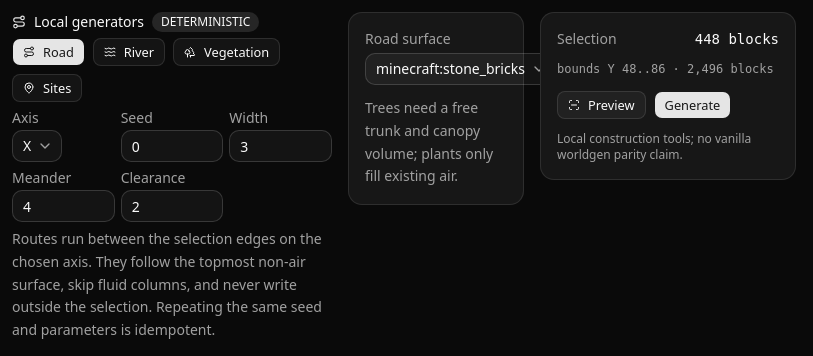
Scenario: generators panel › previews a deterministic road without writing
Click the button with aria-label "Preview generator" at (601, 105), box left=557, top=91, right=646, bottom=119
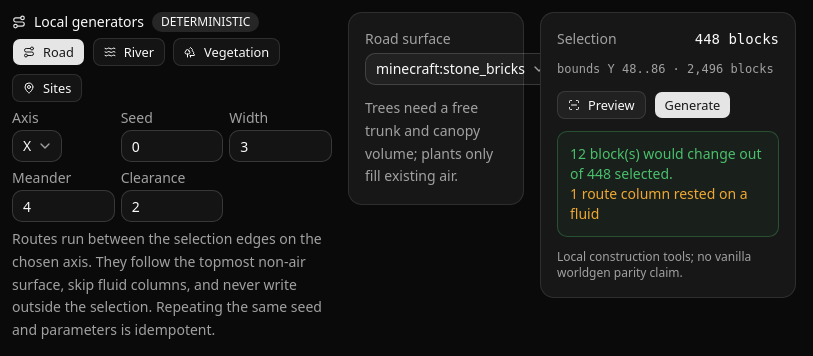
Result: the element with test id "generator-preview" shows "12 block(s) would change out of 448 selected." at left=557, top=131, right=779, bottom=237
Result: the element with test id "generator-preview" shows "1 route column rested on a fluid" at left=570, top=184, right=748, bottom=223
